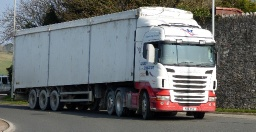truck: (13, 4, 219, 123)
